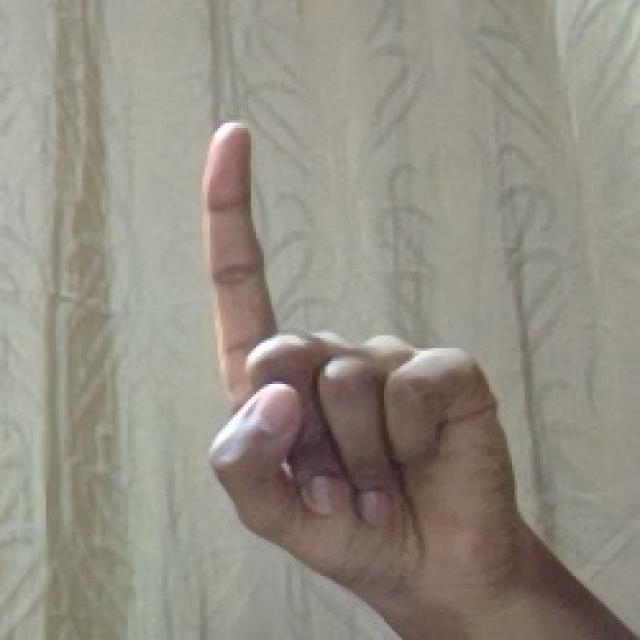Numeric-1: (194, 116, 521, 611)
